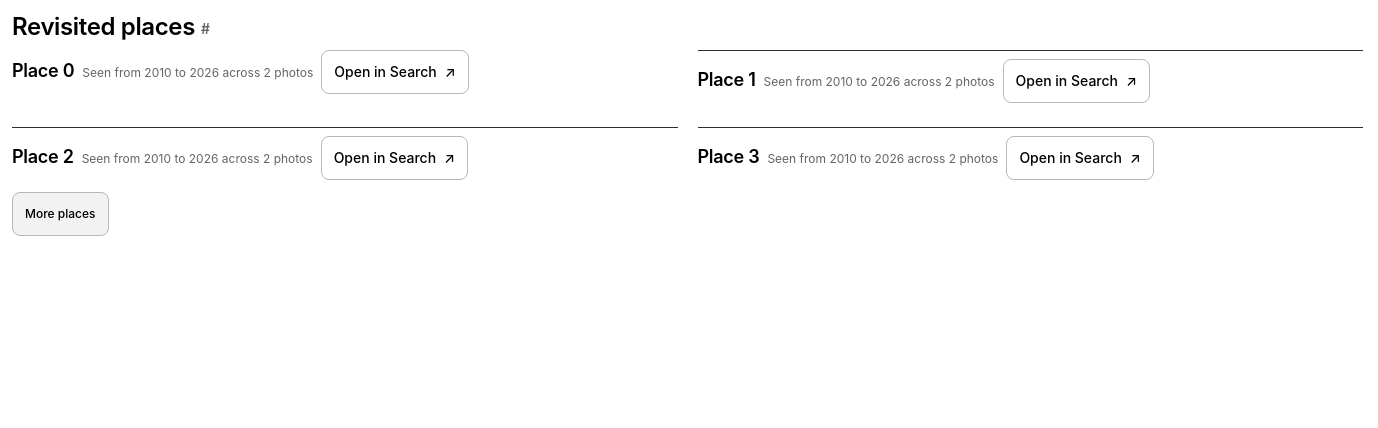
reveals more revisited places without changing their order
The width and height of the screenshot is (1378, 428).
Expected: the heading "Place 4" is not shown
Click the button "More places": (60, 214) [12,192,109,236]
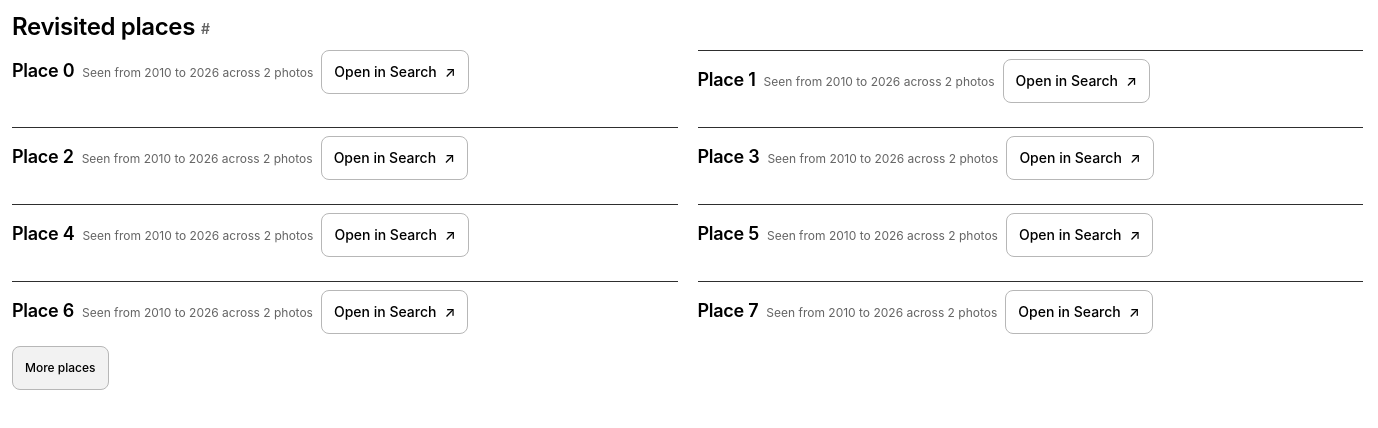
Expected: the heading "Place 8" is not shown
Expected: the heading "Place 7" is shown, [698,300,758,322]
Click the button "More places": (60, 368) [12,346,109,390]
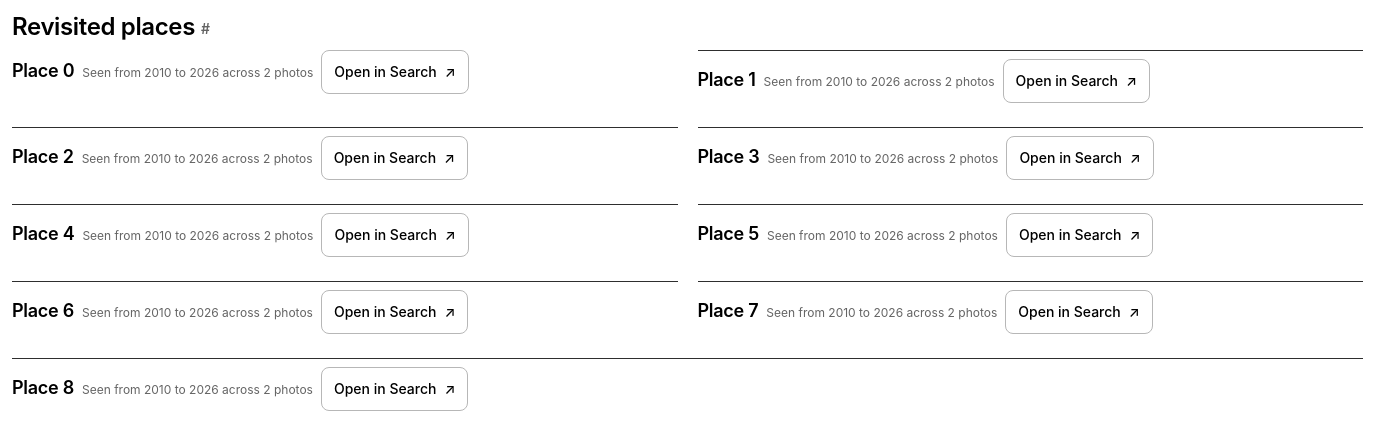
Expected: the heading "Place 8" is shown, [12,377,74,400]
Expected: the button "More places" is gone
